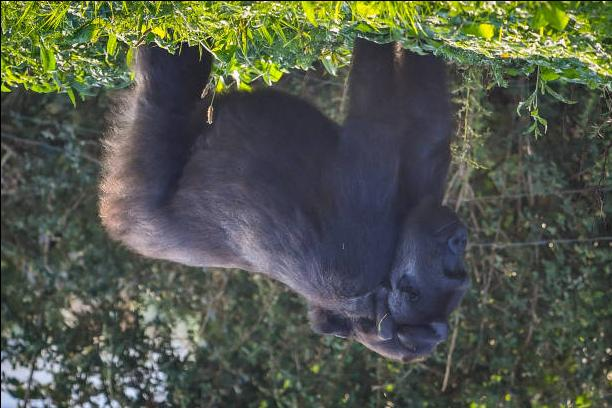gorille_Autres: (80, 15, 494, 372)
